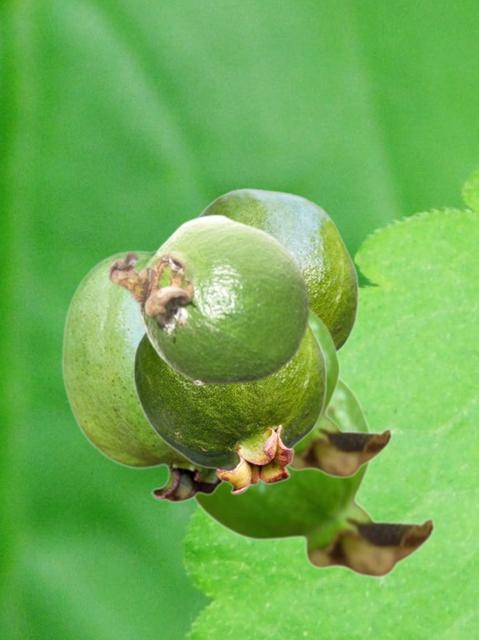guava: (193, 376, 435, 578), (61, 247, 223, 502), (107, 213, 310, 385), (132, 322, 326, 494), (198, 188, 358, 351), (288, 308, 392, 478)
